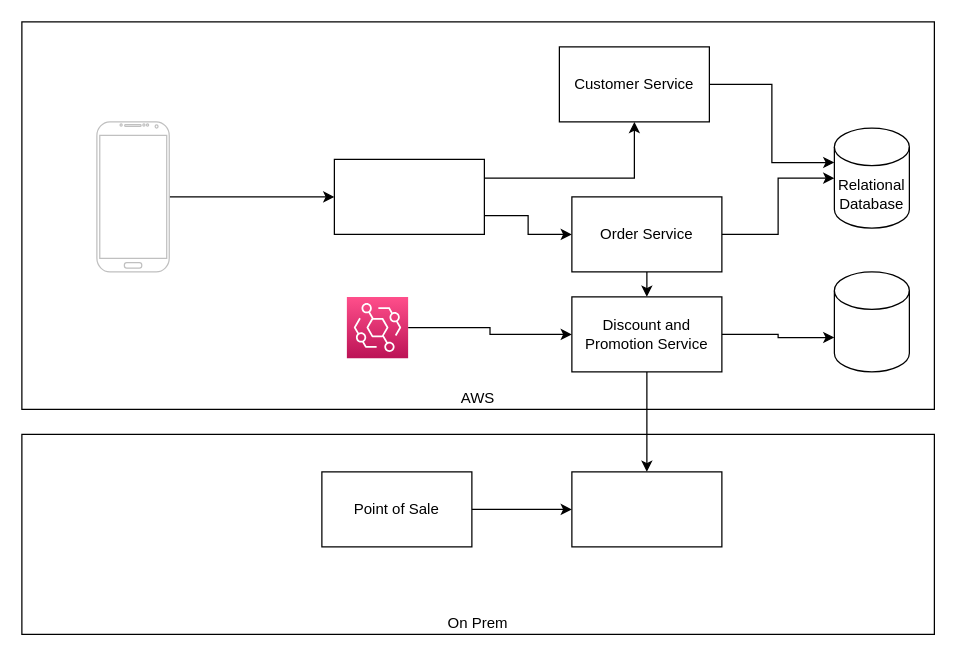
Some shapes in this 956 by 656 pixel diagram are drawn without their labels. Here are the shapes that lost their labels. From the top down, the centre of each, then its label:
pixel 408 196: API Gateway
pixel 871 321: MongoDB
pixel 646 509: Discount Provider
